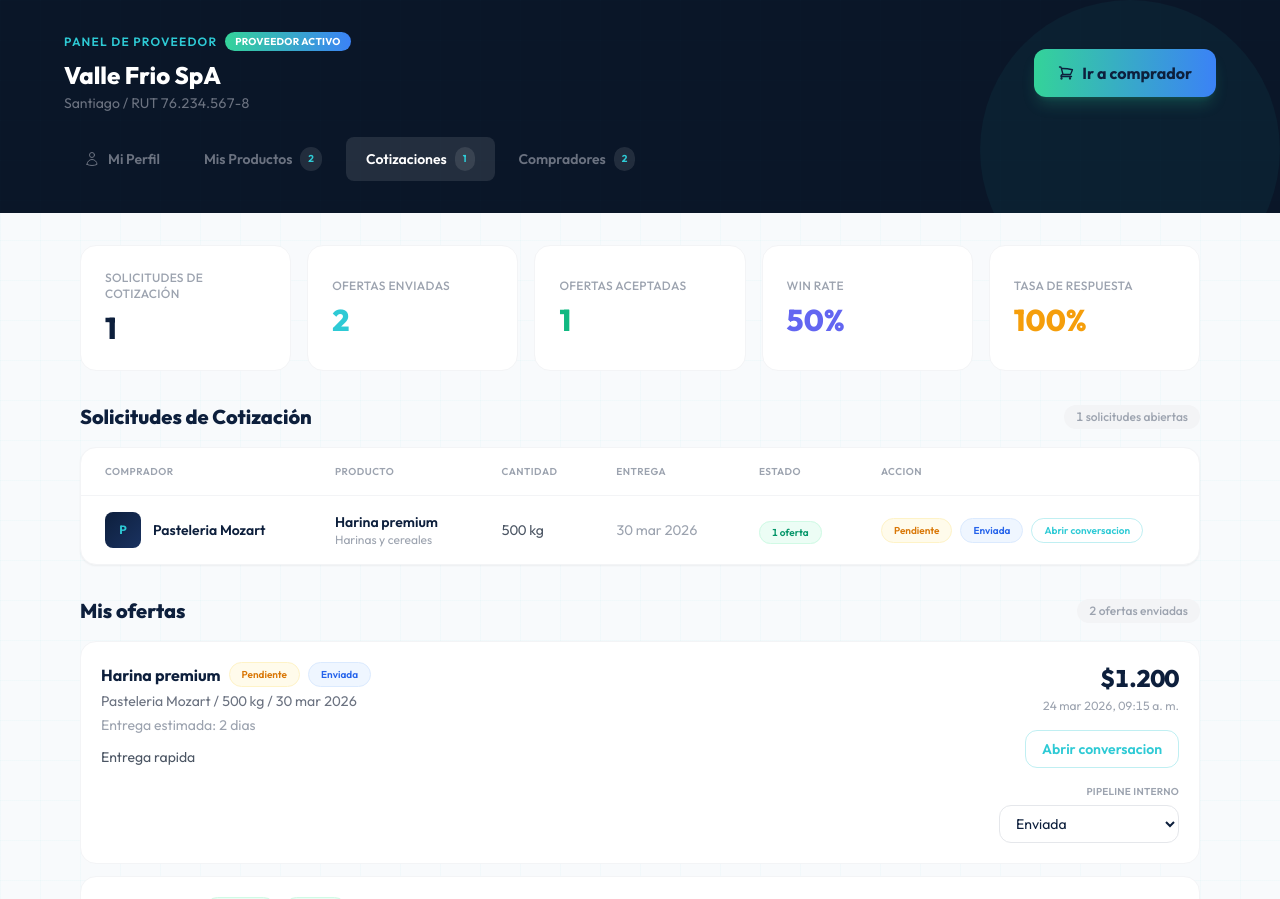
Scenario: SupplierDashboard › muestra la conversacion cerrada en solo lectura
Step 1. Click the button "Abrir conversacion" in the row of "Harinas y cereales" → (1087,530), box x1=1031 y1=518 x2=1143 y2=542
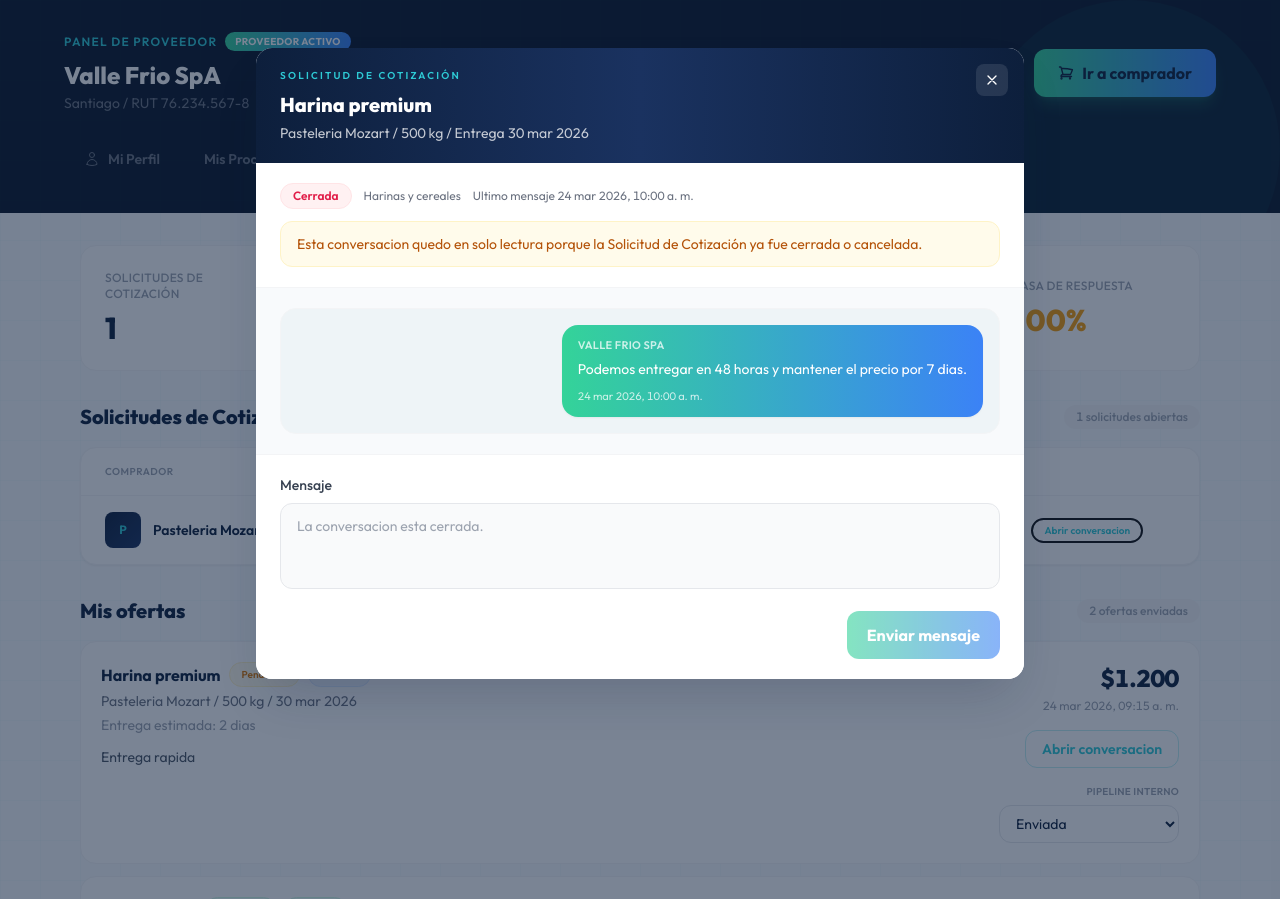
Result: the text "Esta conversacion quedo en solo lectura" is shown at x1=297 y1=235 x2=922 y2=253
Result: the text box labelled "Mensaje" is disabled at x1=280 y1=503 x2=1000 y2=589
Result: the button "Enviar mensaje" is disabled at x1=847 y1=611 x2=1000 y2=659
